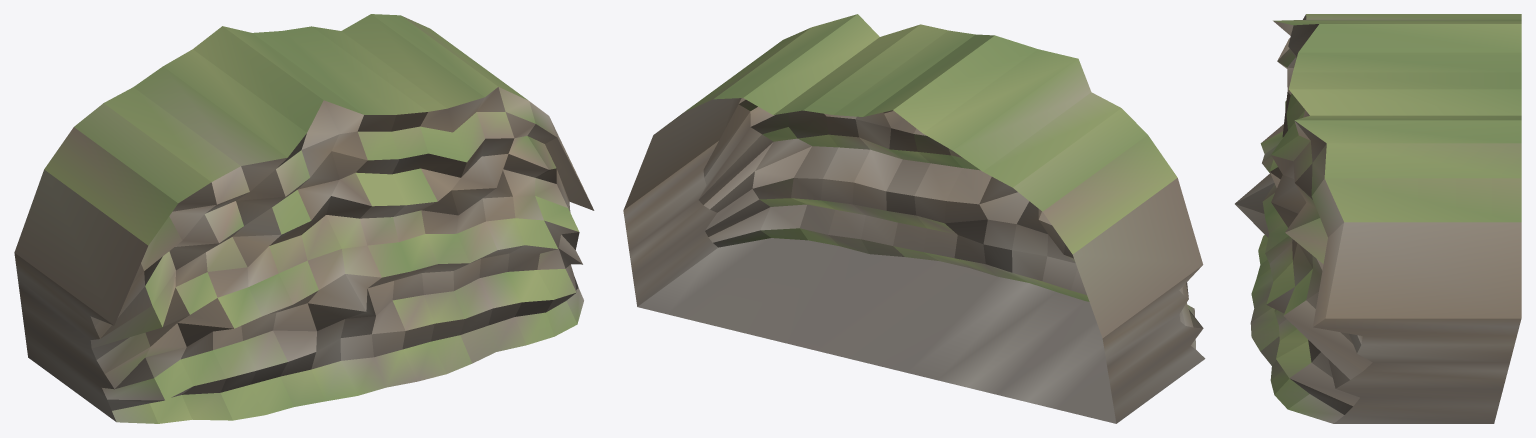
File: bank.glb
The picture shows the model from 3 angles, left to right: view 1: azimuth 30°, elevation 25°; view 2: azimuth 150°, elevation 25°; view 3: azimuth 270°, elevation 25°; orthographic projection.
Parts seen in each view (by area): view 1: geo_outcrop_bank_straight; view 2: geo_outcrop_bank_straight; view 3: geo_outcrop_bank_straight.
Part boxes in pixels (<box>): geo_outcrop_bank_straight: <box>14,14,594,423</box>; geo_outcrop_bank_straight: <box>623,14,1205,423</box>; geo_outcrop_bank_straight: <box>1235,14,1521,423</box>.
Bounding box in the file's own units: 4 × 2.18 × 2.1.
